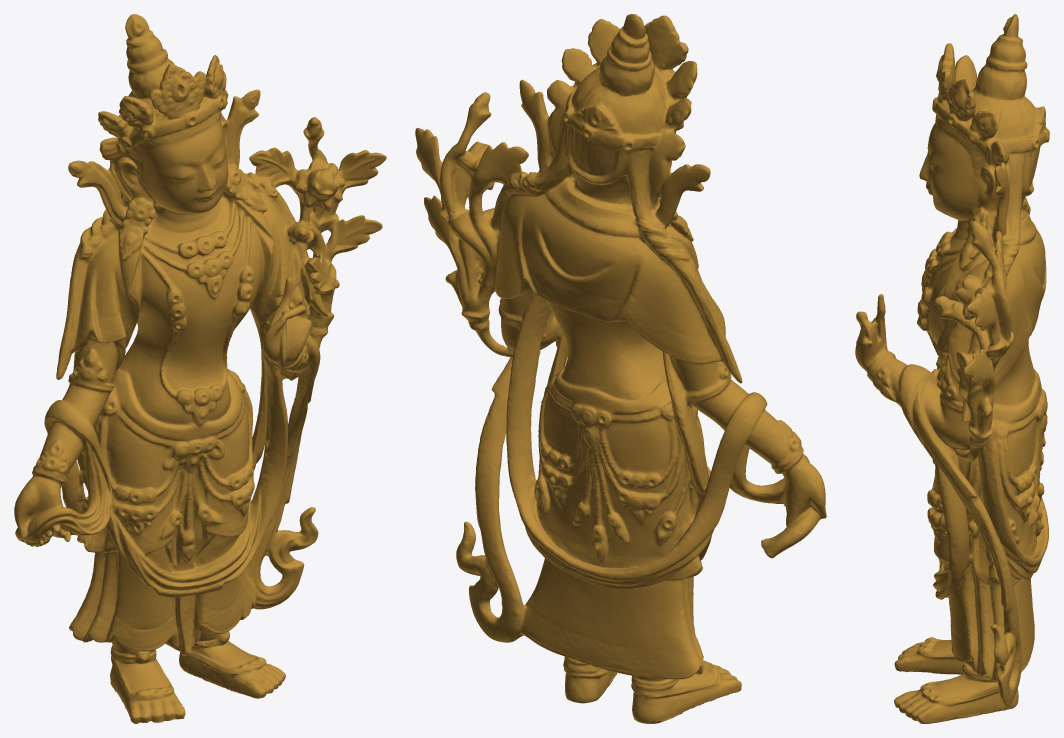
Rendered from bodhisattva.glb.
3 renders of one model, left to right at view 1: azimuth 30°, elevation 25°; view 2: azimuth 150°, elevation 25°; view 3: azimuth 270°, elevation 25°, orthographic. The views are drawn at different scales.
Visible parts, largest first — view 1: Object_2, Object_3, Object_4; view 2: Object_2, Object_3, Object_4; view 3: Object_3, Object_2, Object_4.
Boxes of the visible parts, <box> form: Object_2: <box>46,90,320,723</box>; Object_3: <box>56,14,382,722</box>; Object_4: <box>14,93,386,546</box>; Object_2: <box>458,104,767,705</box>; Object_3: <box>424,14,741,723</box>; Object_4: <box>415,89,826,558</box>; Object_3: <box>855,14,1049,723</box>; Object_2: <box>894,153,1048,682</box>; Object_4: <box>934,171,1042,369</box>.
Bounding box in the file's own units: 3.82 × 6.4 × 1.7.
